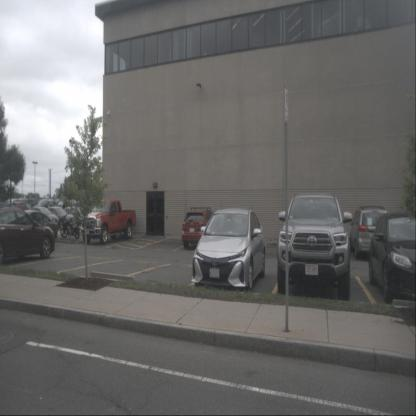vehicle-car: (278, 194, 350, 302), (192, 206, 266, 291), (368, 214, 416, 307), (0, 207, 55, 264), (349, 207, 389, 260), (9, 210, 58, 248), (182, 210, 222, 249), (24, 206, 60, 230), (40, 206, 75, 230)
vehicle-motorcycle: (61, 214, 80, 239)
vehicle-truck: (81, 199, 136, 245)
